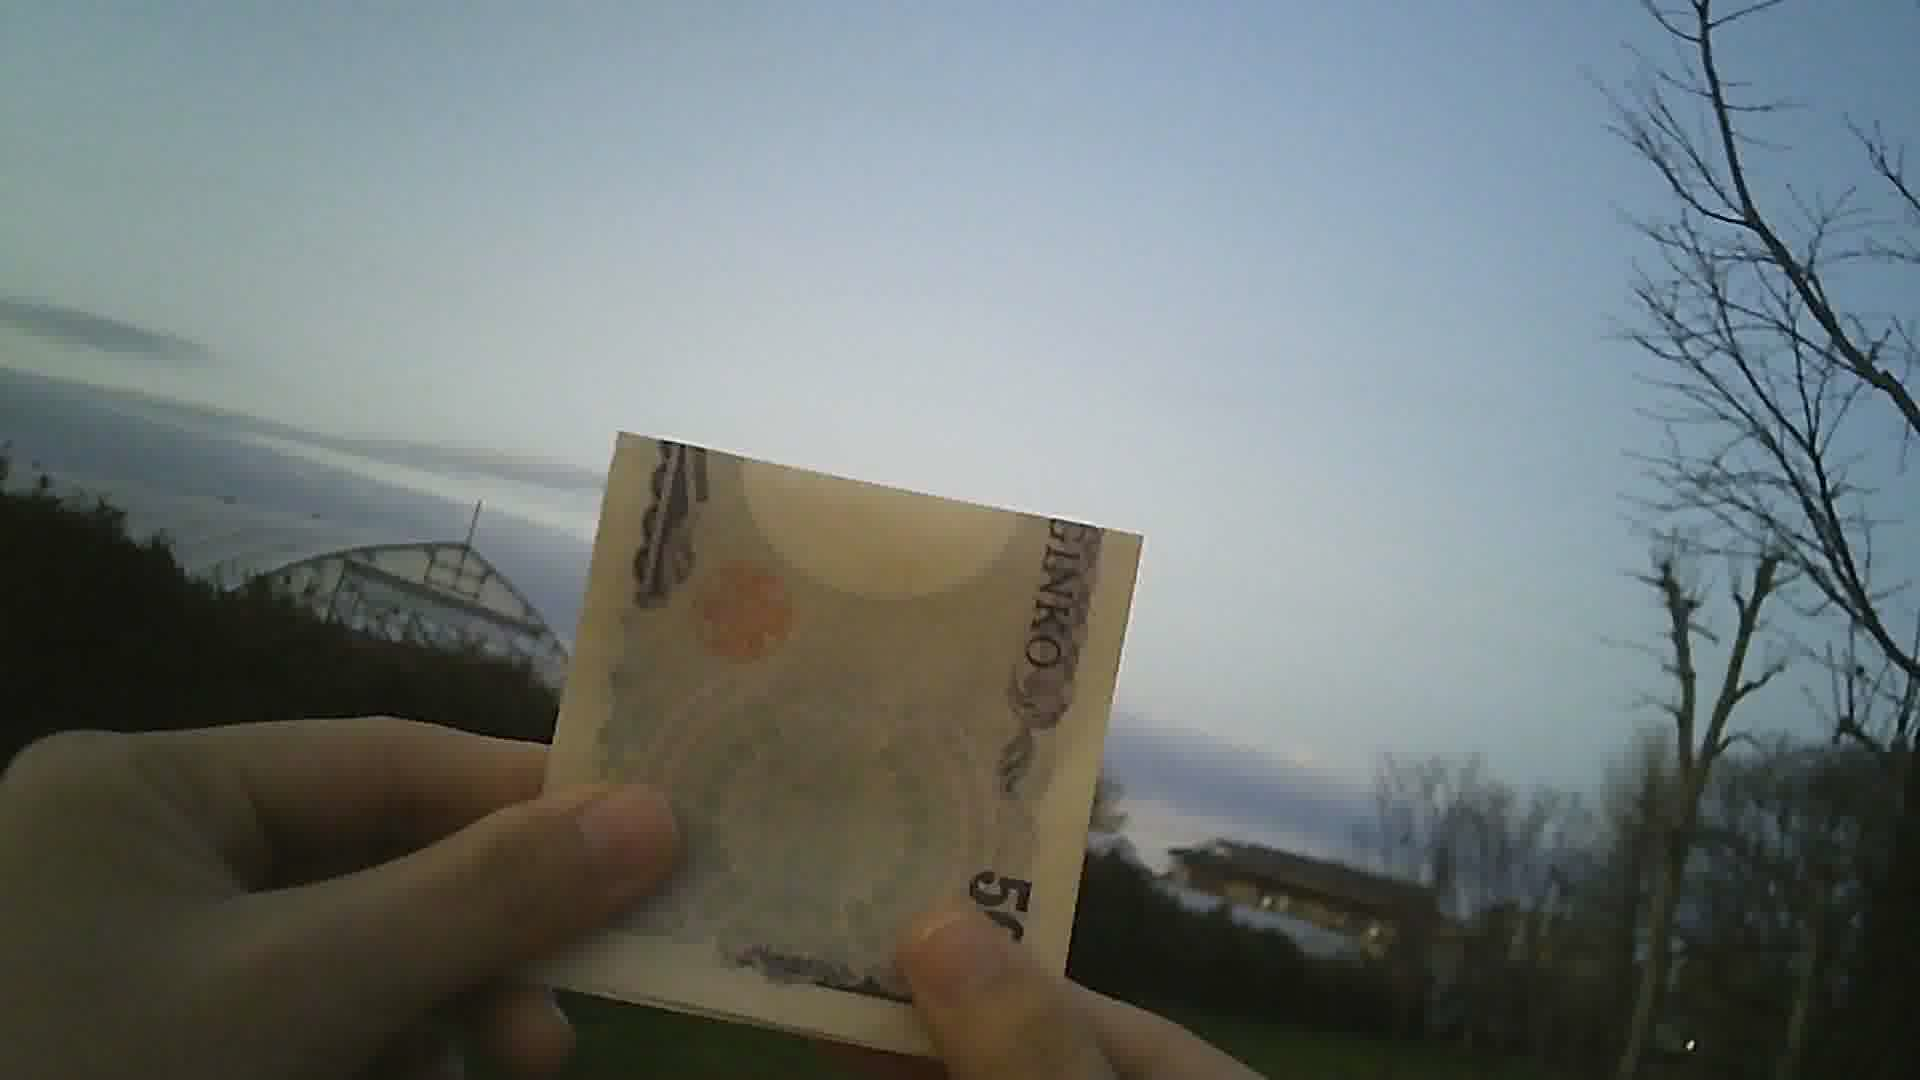5,000 Yen: (531, 418, 1141, 1054)
